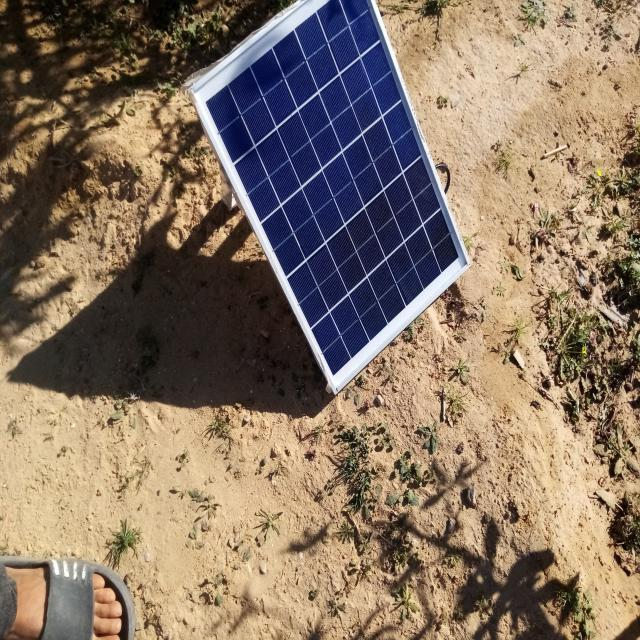no faulty: (194, 0, 471, 396)
